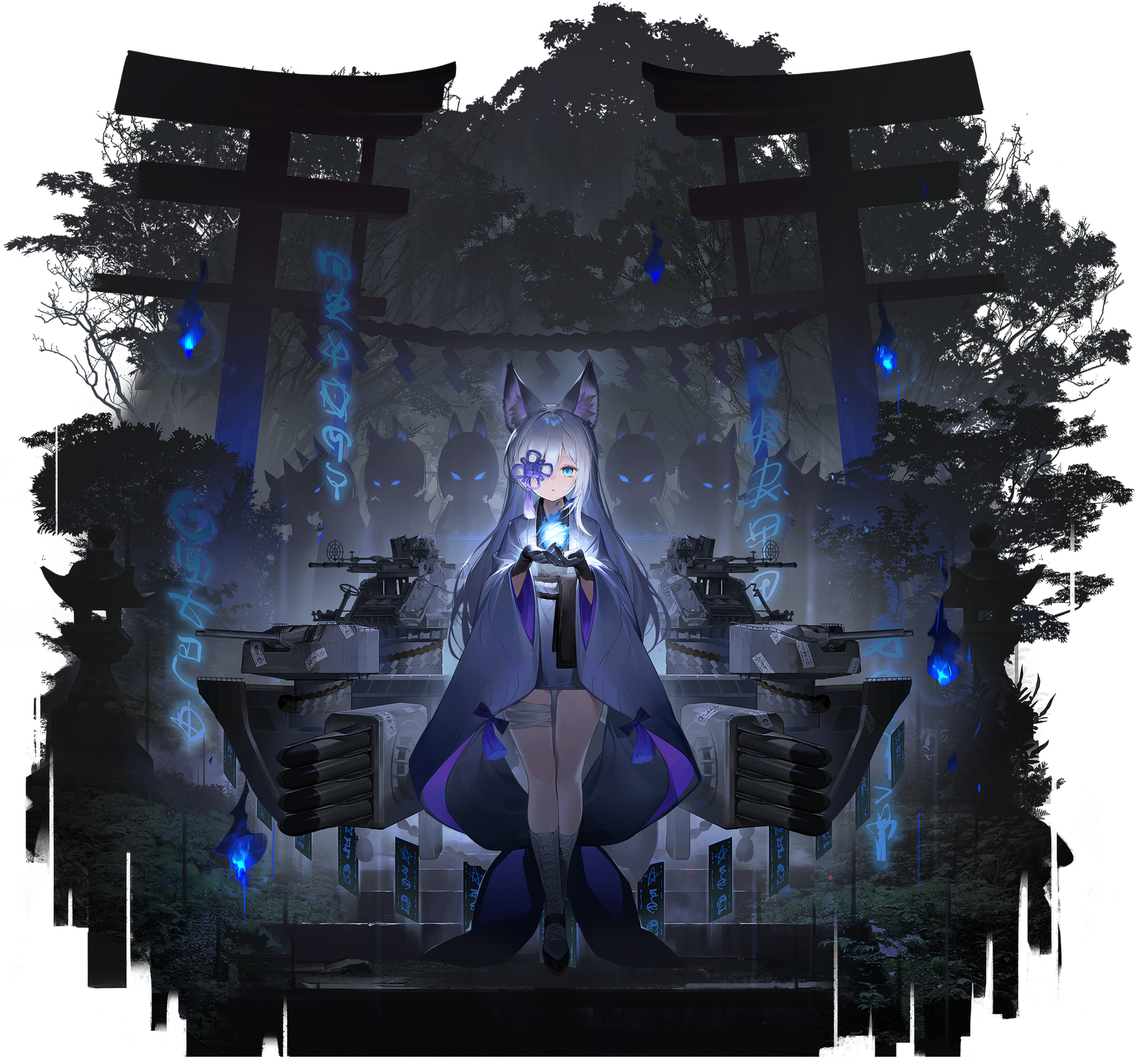person: (368, 336, 736, 1007)
